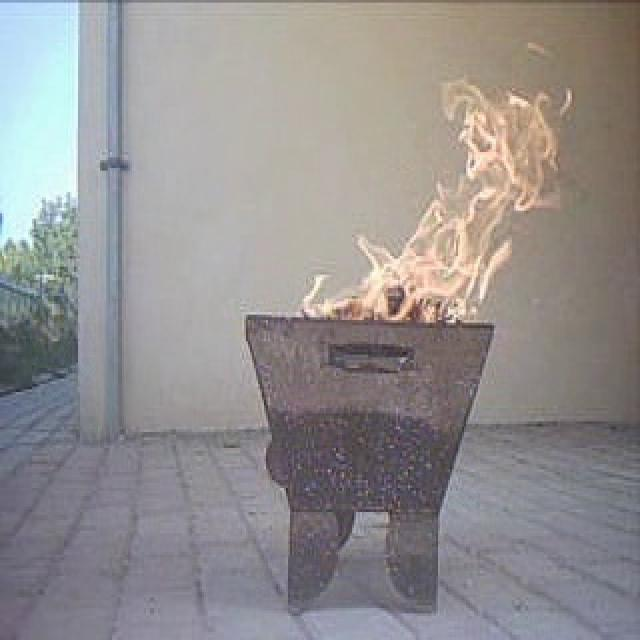fire: (382, 77, 560, 318)
